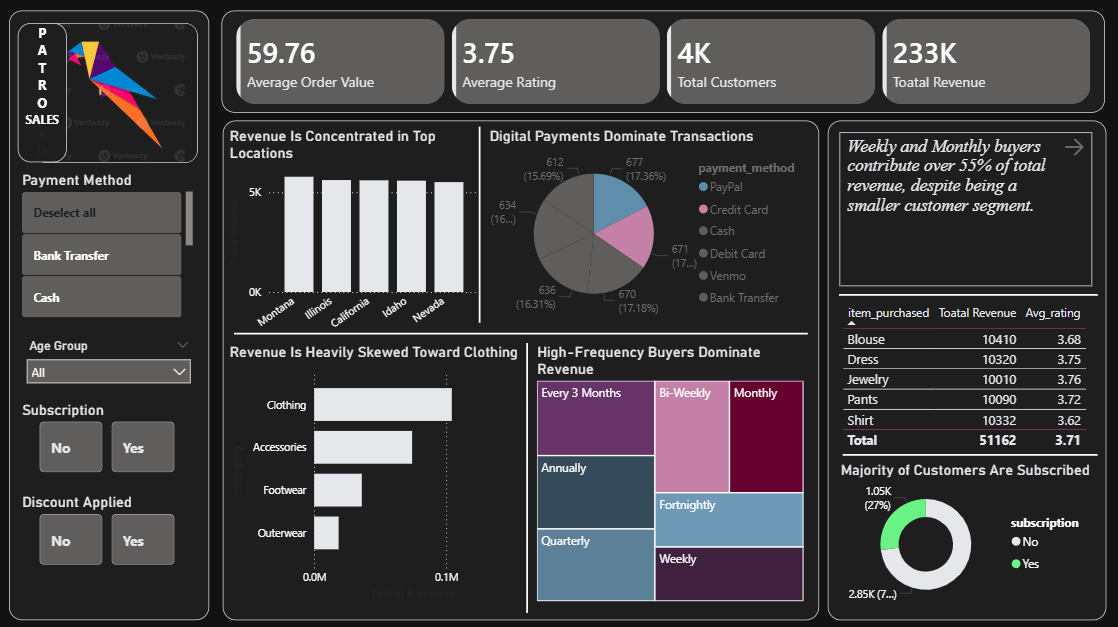

What the dashboard file says about the page in this screenshot:
{"tool":"powerbi","page":{"name":"Page 1","canvas":[1280,720],"ordinal":0},"visuals":[{"type":"shape","box":[253.9,136.4,682,571.3],"z":0},{"type":"shape","box":[947.1,140,318.6,571.4],"z":1000},{"type":"shape","box":[11,13.7,229.2,697.1],"z":2000},{"type":"listSlicer","fields":{"Values":["customer_behavior customer.payment_method"]},"box":[21.6,198.5,206.6,174.2],"z":3000},{"type":"slicer","fields":{"Values":["customer_behavior customer.age_group"]},"box":[21.6,379.5,208,74.3],"z":4000},{"type":"advancedSlicerVisual","fields":{"Values":["customer_behavior.subscription_status"]},"box":[21.6,459.2,206.6,105.3],"z":5000},{"type":"advancedSlicerVisual","fields":{"Values":["customer_behavior.discount_applied"]},"box":[20.3,584.8,206.6,102.6],"z":6000},{"type":"columnChart","title":"Revenue Is Concentrated in Top Locations","fields":{"Category":["customer_behavior.location"],"Y":["customer_behavior.Toatal Revenue"]},"box":[259.3,140.5,295.8,263.3],"z":7000},{"type":"image","box":[40,28.6,187.1,160],"z":8000},{"type":"textbox","title":"PATRO","box":[22,28.8,56.3,159.2],"z":9000},{"type":"shape","box":[253.9,13.7,1010,116.6],"z":10000},{"type":"cardVisual","fields":{"Data":["customer_behavior.Average purchase amt","customer_behavior.Avg_rating","customer_behavior.Number of customer_id","customer_behavior.Toatal Revenue"]},"box":[253.9,0,1011.5,132.3],"z":11000},{"type":"shape","box":[259.3,379.5,664.4,14.9],"z":12000},{"type":"clusteredBarChart","title":"Revenue Is Heavily Skewed Toward Clothing","fields":{"Category":["customer_behavior.category"],"Y":["customer_behavior.Toatal Revenue"]},"box":[259.3,387.6,337.6,310.6],"z":13000},{"type":"tableEx","fields":{"Values":["customer_behavior.item_purchased","customer_behavior.Toatal Revenue","customer_behavior.Avg_rating"]},"box":[956.2,344.4,299.8,178.3],"z":14000},{"type":"shape","box":[960.2,334.9,295.8,9.5],"z":15000},{"type":"donutChart","title":"Majority of Customers Are Subscribed","fields":{"Category":["customer_behavior.subscription_status"],"Y":["CountNonNull(customer_behavior.customer_id)"]},"box":[956.2,529.4,302.5,172.9],"z":16000},{"type":"shape","box":[960.2,503.7,295.8,36.5],"z":17000},{"type":"pieChart","title":"Digital Payments Dominate Transactions","fields":{"Category":["customer_behavior.payment_method"],"Y":["customer_behavior.No Of Purchase"]},"box":[555.1,147.2,368.7,225.5],"z":18000},{"type":"shape","box":[542.9,147.1,12.9,224.3],"z":19000},{"type":"shape","box":[597.1,394.3,12.9,308.6],"z":20000},{"type":"treemap","title":"High-Frequency Buyers Dominate Revenue","fields":{"Group":["customer_behavior.frequency_of_purchases"],"Values":["customer_behavior.Toatal Revenue"]},"box":[610.4,394.3,313.3,307.9],"z":21000},{"type":"textSlicer","box":[956.2,148.6,299.8,186.4],"z":22000}]}

Visuals, with their boxes in screenshot pixels (x1, y1, x2, y2), scaled from the page's 1280x720 canvas onto the 1118x627 screenshot:
shape: [x1=222, y1=119, x2=817, y2=616]
shape: [x1=827, y1=122, x2=1106, y2=620]
shape: [x1=10, y1=12, x2=210, y2=619]
listSlicer - customer_behavior customer.payment_method: [x1=19, y1=173, x2=199, y2=325]
slicer - customer_behavior customer.age_group: [x1=19, y1=330, x2=201, y2=395]
advancedSlicerVisual - customer_behavior.subscription_status: [x1=19, y1=400, x2=199, y2=492]
advancedSlicerVisual - customer_behavior.discount_applied: [x1=18, y1=509, x2=198, y2=599]
"Revenue Is Concentrated in Top Locations" columnChart: [x1=226, y1=122, x2=485, y2=352]
image: [x1=35, y1=25, x2=198, y2=164]
"PATRO" textbox: [x1=19, y1=25, x2=68, y2=164]
shape: [x1=222, y1=12, x2=1104, y2=113]
cardVisual - customer_behavior.Average purchase amt x customer_behavior.Avg_rating: [x1=222, y1=0, x2=1105, y2=115]
shape: [x1=226, y1=330, x2=807, y2=343]
"Revenue Is Heavily Skewed Toward Clothing" clusteredBarChart: [x1=226, y1=338, x2=521, y2=608]
tableEx - customer_behavior.item_purchased x customer_behavior.Toatal Revenue: [x1=835, y1=300, x2=1097, y2=455]
shape: [x1=839, y1=292, x2=1097, y2=300]
"Majority of Customers Are Subscribed" donutChart: [x1=835, y1=461, x2=1099, y2=612]
shape: [x1=839, y1=439, x2=1097, y2=470]
"Digital Payments Dominate Transactions" pieChart: [x1=485, y1=128, x2=807, y2=325]
shape: [x1=474, y1=128, x2=485, y2=323]
shape: [x1=522, y1=343, x2=533, y2=612]
"High-Frequency Buyers Dominate Revenue" treemap: [x1=533, y1=343, x2=807, y2=611]
textSlicer: [x1=835, y1=129, x2=1097, y2=292]
